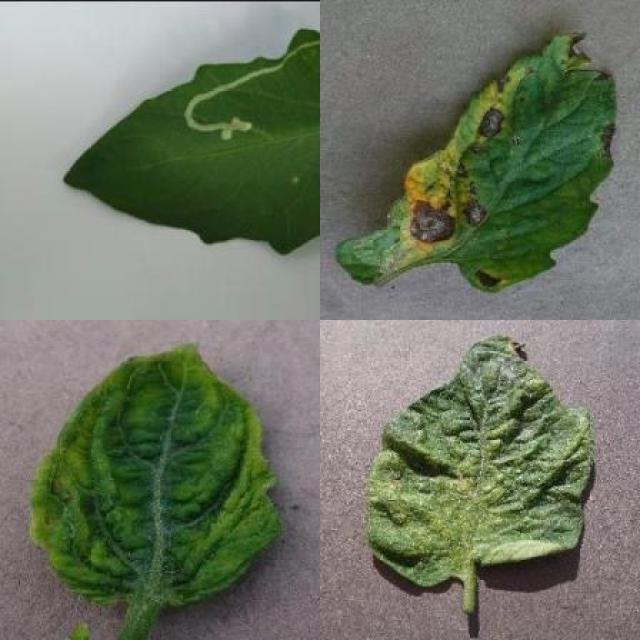Early Blight: (336, 28, 620, 292)
Leaf Miner: (61, 25, 320, 261)
Spider Mites: (368, 335, 596, 588)
Yellow Leaf Curl Virus: (31, 342, 280, 608)
